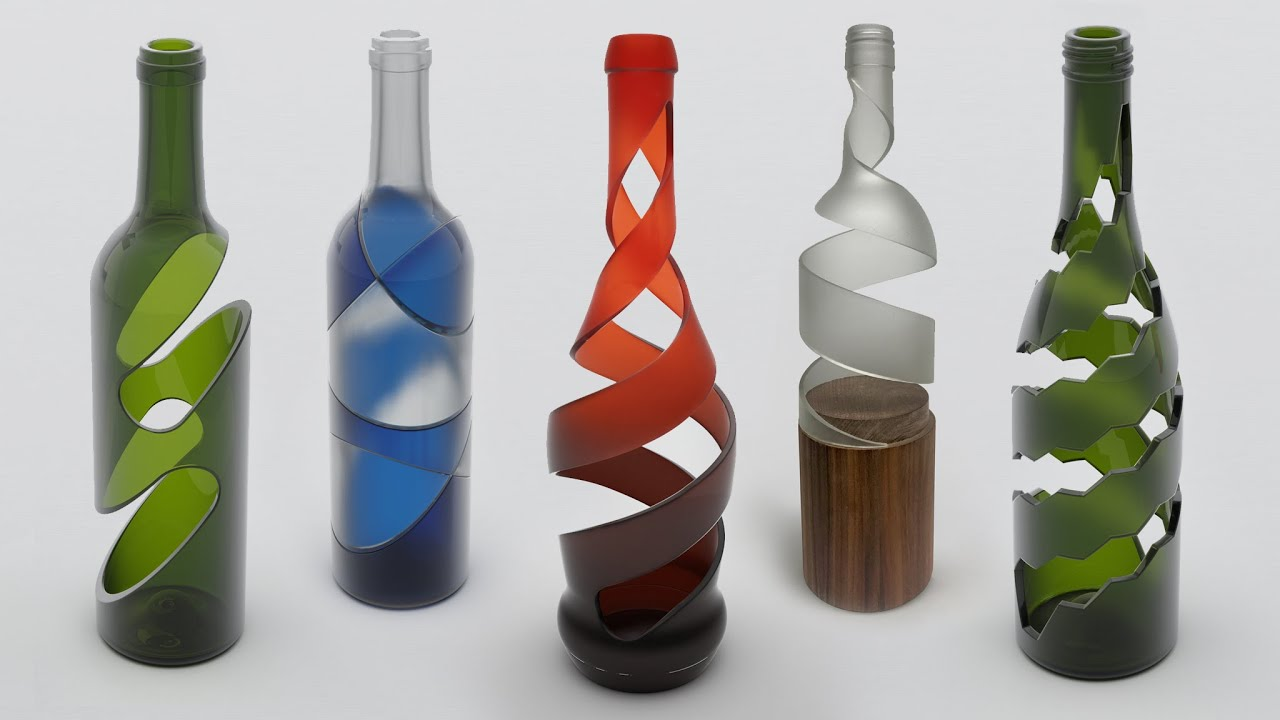glass_bottle: (546, 32, 743, 698), (1007, 23, 1187, 686), (86, 31, 252, 676), (319, 25, 479, 618), (796, 21, 937, 622)
